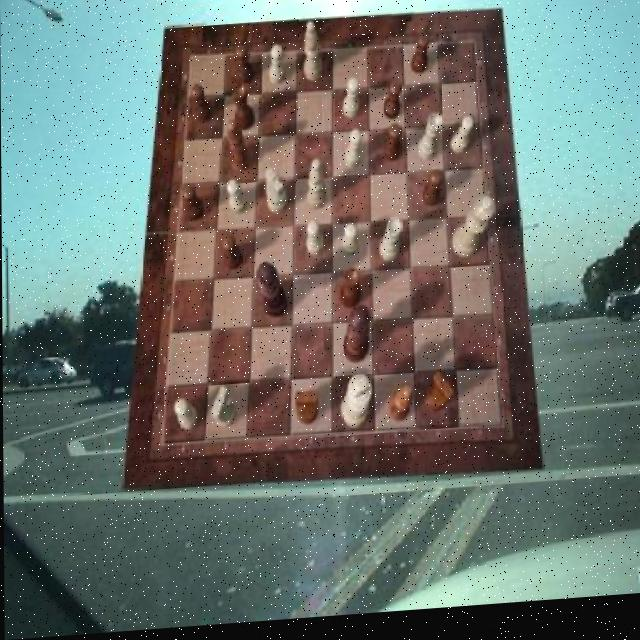bishop: (227, 121, 250, 177), (389, 388, 413, 427)
black-bishop: (255, 265, 286, 324)
black-king: (422, 378, 454, 420), (295, 394, 318, 430)
black-knight: (192, 86, 212, 127), (423, 176, 443, 215), (183, 188, 204, 225), (223, 238, 243, 276), (411, 40, 429, 81), (384, 87, 402, 127), (236, 48, 253, 89), (383, 129, 400, 168)
black-pawn: (342, 309, 370, 368)
black-queen: (232, 87, 255, 136), (340, 273, 361, 316)
black-rook: (305, 26, 323, 87), (307, 163, 327, 215)
white-bishop: (341, 377, 373, 434)
white-king: (266, 171, 289, 218), (212, 390, 236, 433)
white-knight: (452, 122, 475, 160), (173, 401, 197, 435), (227, 182, 247, 218), (345, 134, 363, 174), (344, 84, 361, 125), (307, 224, 325, 261), (270, 48, 286, 89), (340, 230, 358, 264)
white-pawn: (452, 202, 496, 266)
white-queen: (418, 120, 442, 168), (378, 221, 402, 268)
